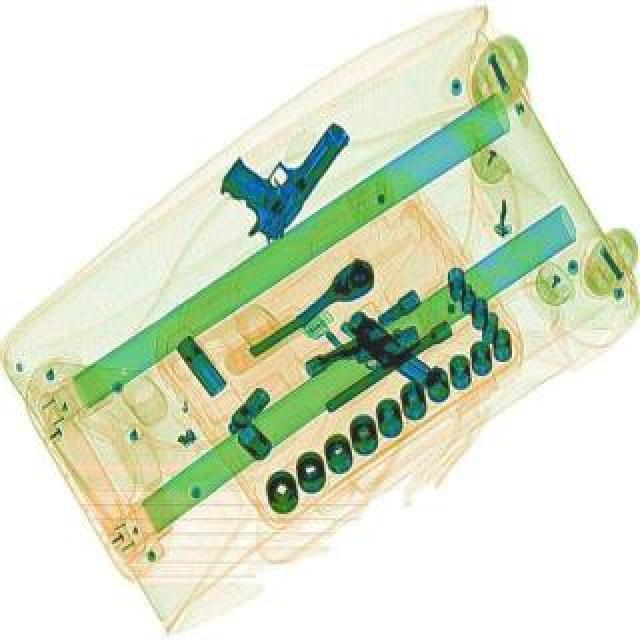gun: (200, 90, 356, 248), (314, 322, 434, 408)
